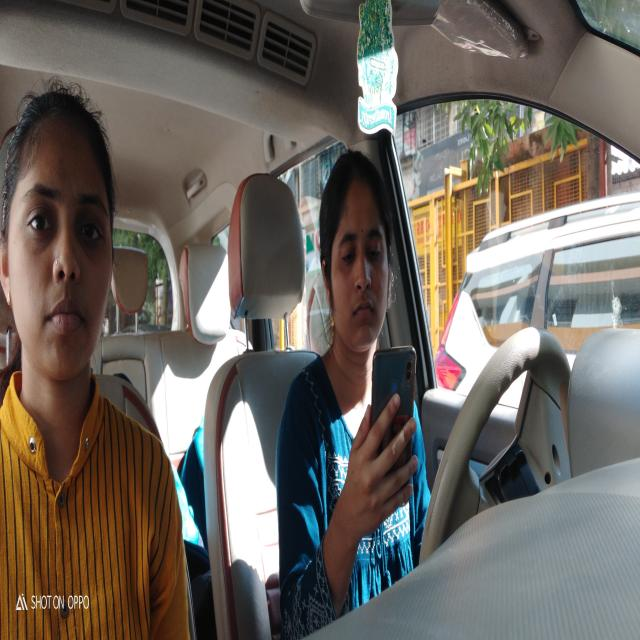mobile: (372, 337, 420, 506)
person: (4, 84, 120, 425), (316, 143, 399, 353)
